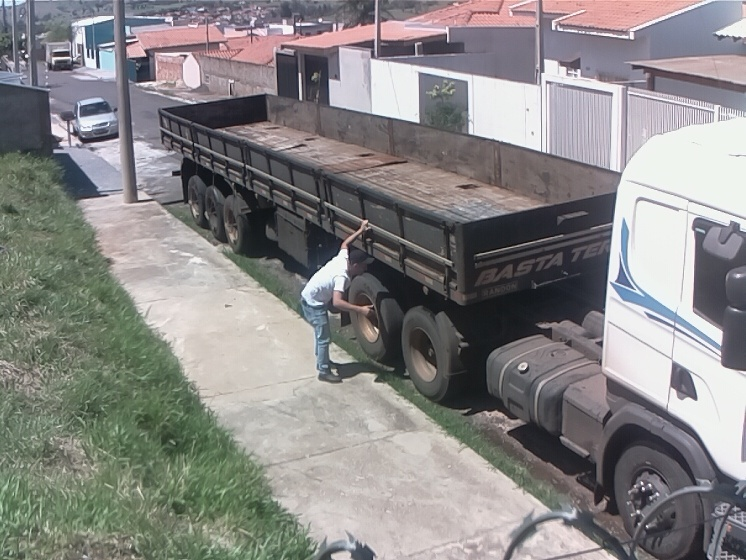person: (297, 218, 378, 385)
